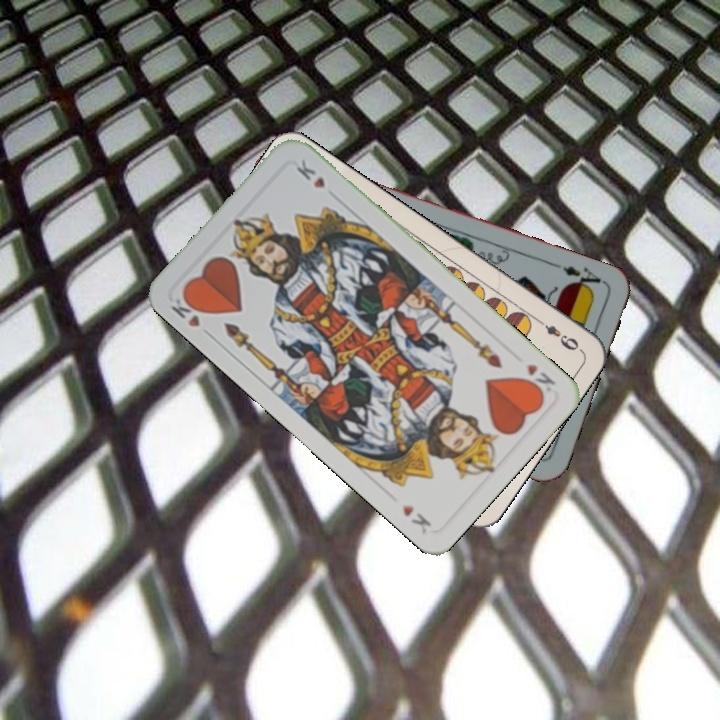E9: (532, 314, 582, 354)
EA: (558, 262, 607, 295)
HK: (167, 288, 215, 341), (519, 359, 558, 401)
